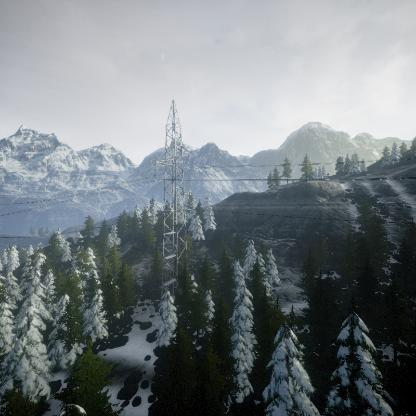tower: (150, 98, 194, 296)
